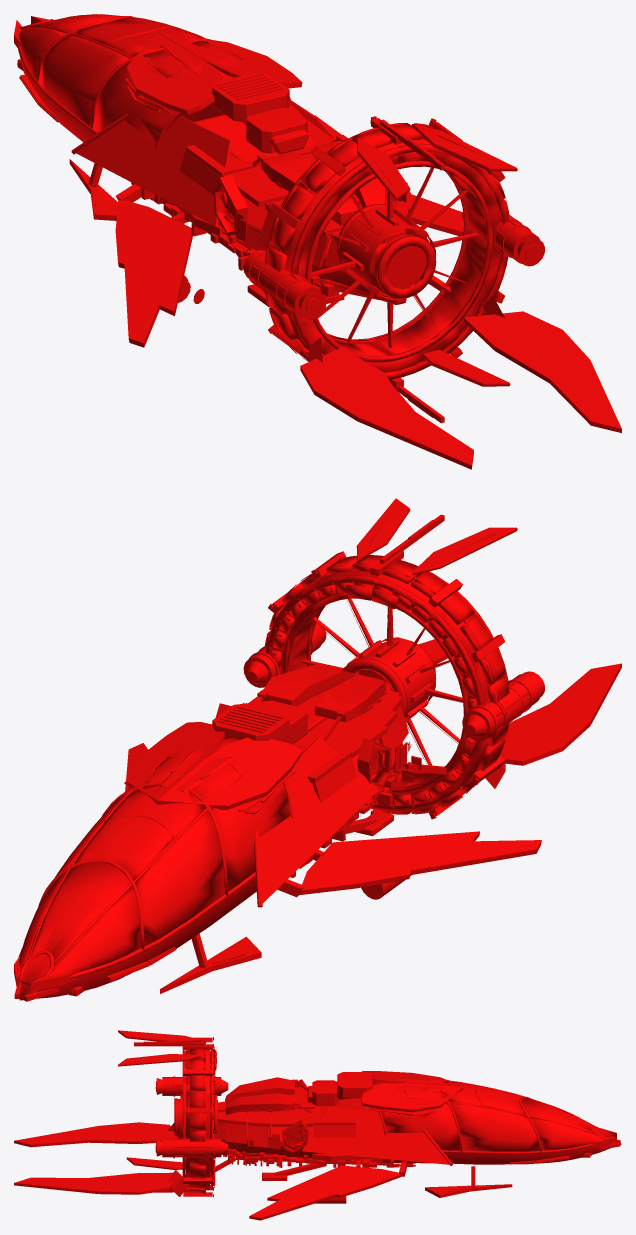
File: OCASO-1-medium.obj
The picture shows the model from 3 angles, top to bottom: view 1: azimuth 30°, elevation 25°; view 2: azimuth 150°, elevation 25°; view 3: azimuth 270°, elevation 25°; orthographic projection. The views are drawn at different scales.
Size of the model in its own units: 8.05 by 4.9 by 17.99.
